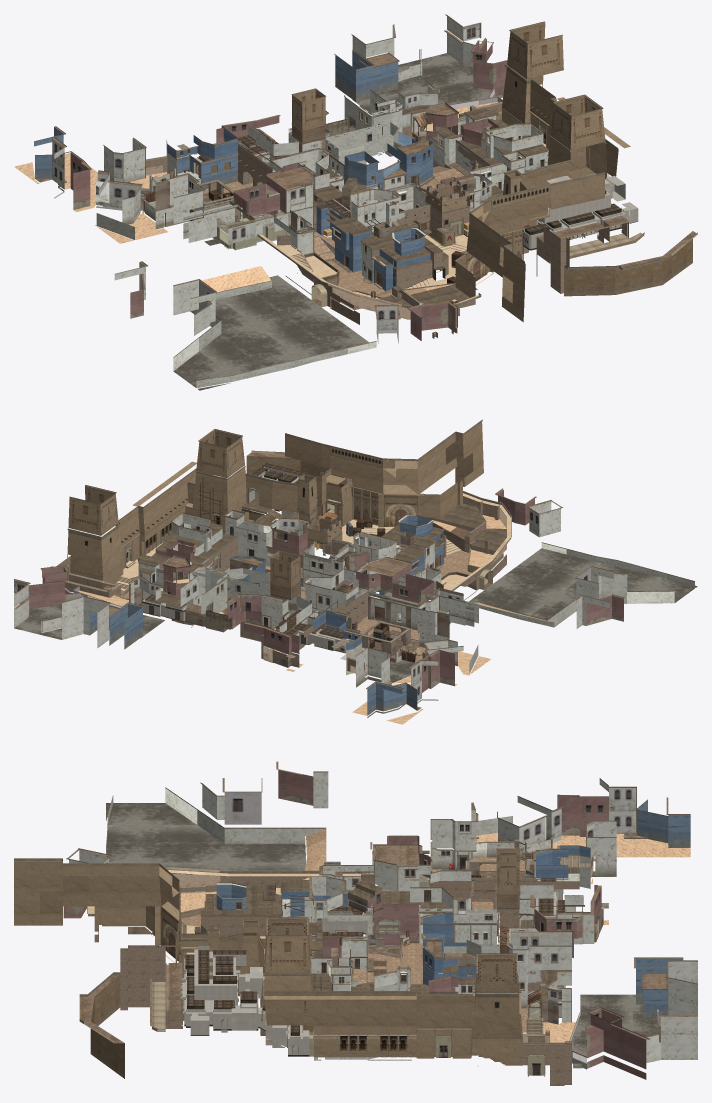
The model's file is mirage_bsp.glb.
3 renders of one model, top to bottom at view 1: azimuth 30°, elevation 25°; view 2: azimuth 150°, elevation 25°; view 3: azimuth 270°, elevation 25°, orthographic. The views are drawn at different scales.
Visible parts, largest first — view 1: de_mirage_cs2_world; view 2: de_mirage_cs2_world; view 3: de_mirage_cs2_world.
Boxes of the visible parts, x1,y1,x2,y2 form: de_mirage_cs2_world: [14, 14, 697, 390]; de_mirage_cs2_world: [14, 419, 697, 724]; de_mirage_cs2_world: [14, 761, 697, 1085].
Bounding box in the file's own units: 115 × 25 × 115.
Materials: 150 (150 with a texture image).
